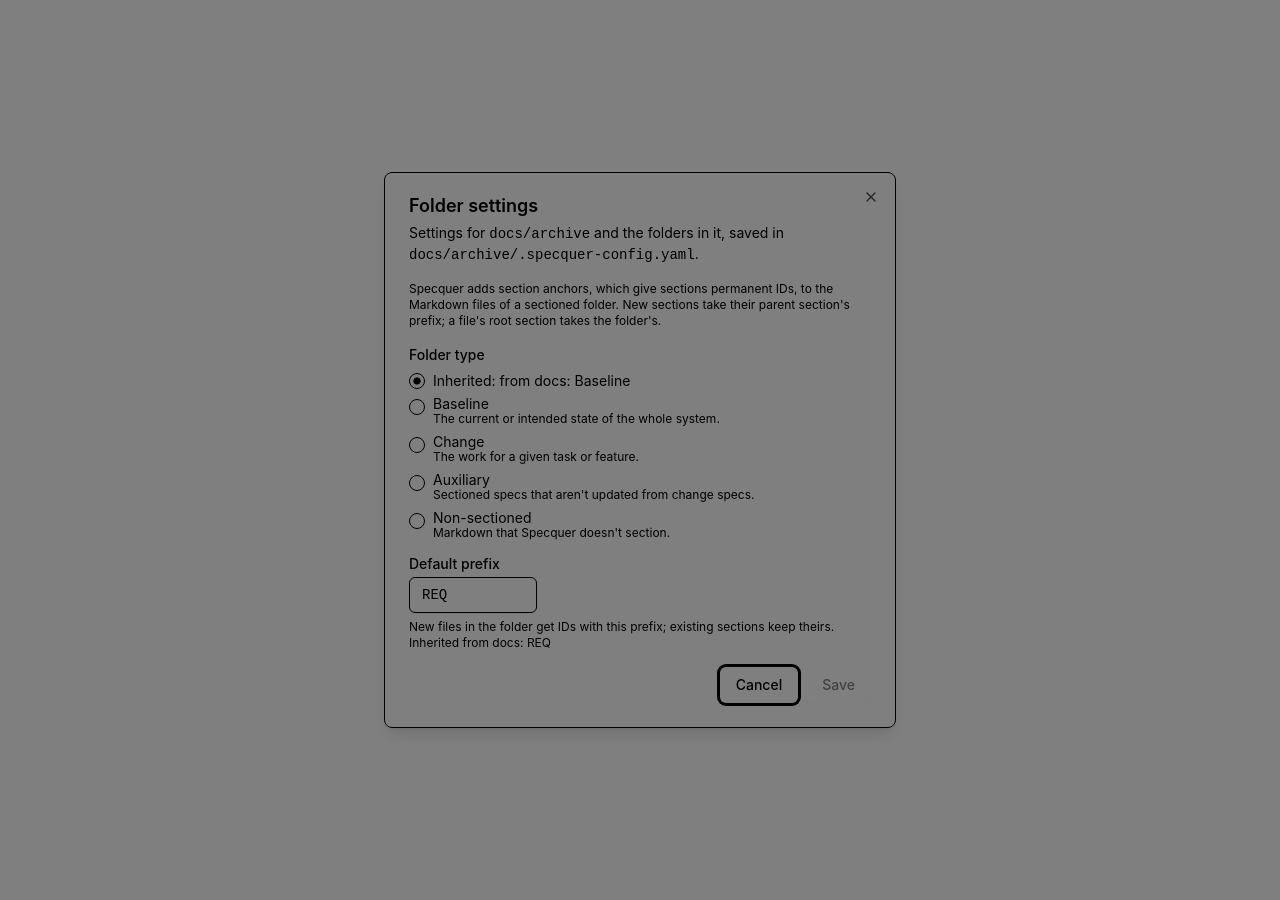
FolderSettingsDialog › a conflict reloads the settings and says so
Click the radio button named "Non-sectioned" next to "Non-sectioned" at (417, 521), box [409,513,425,529]
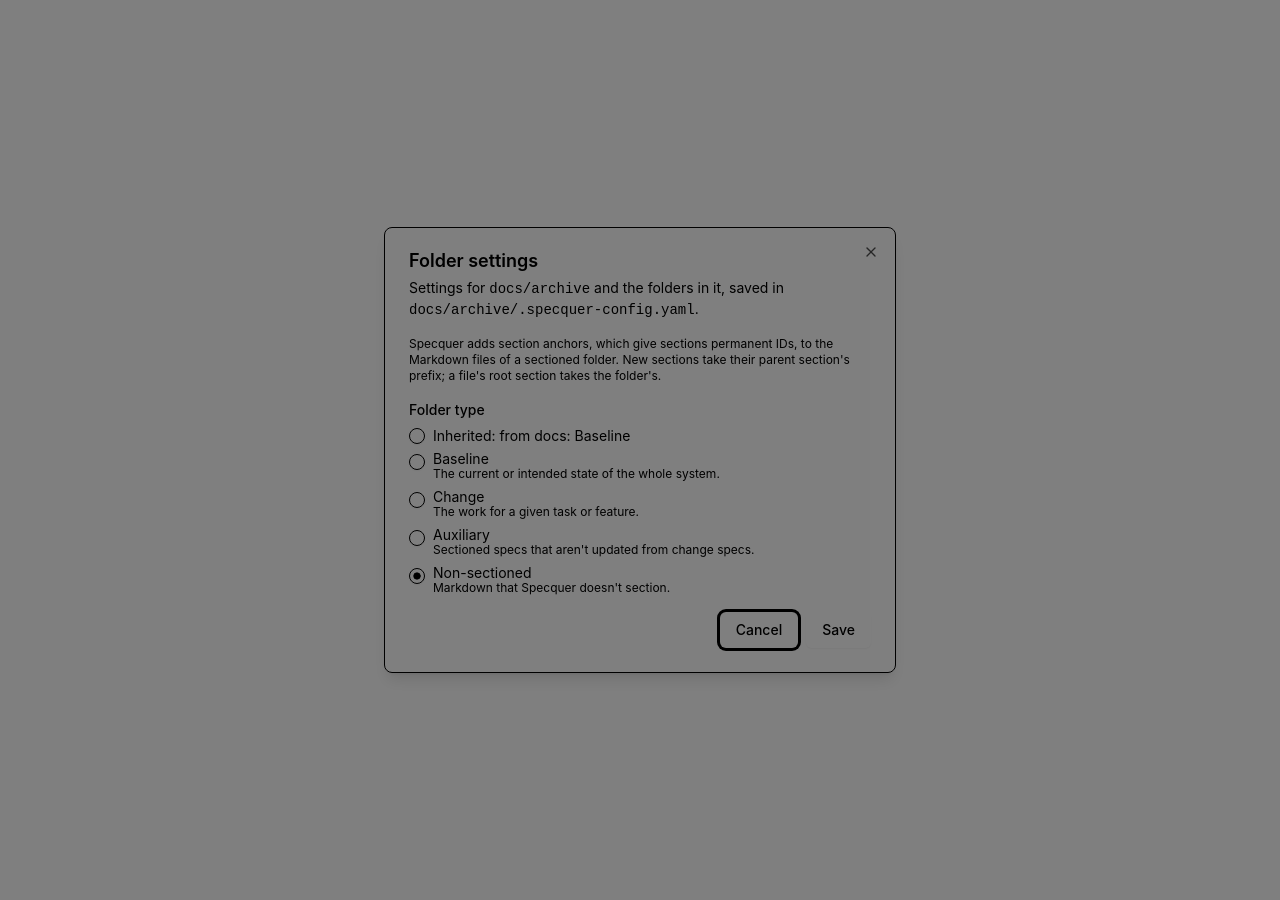
Click the button "Save" at (839, 630), box [806,612,871,648]
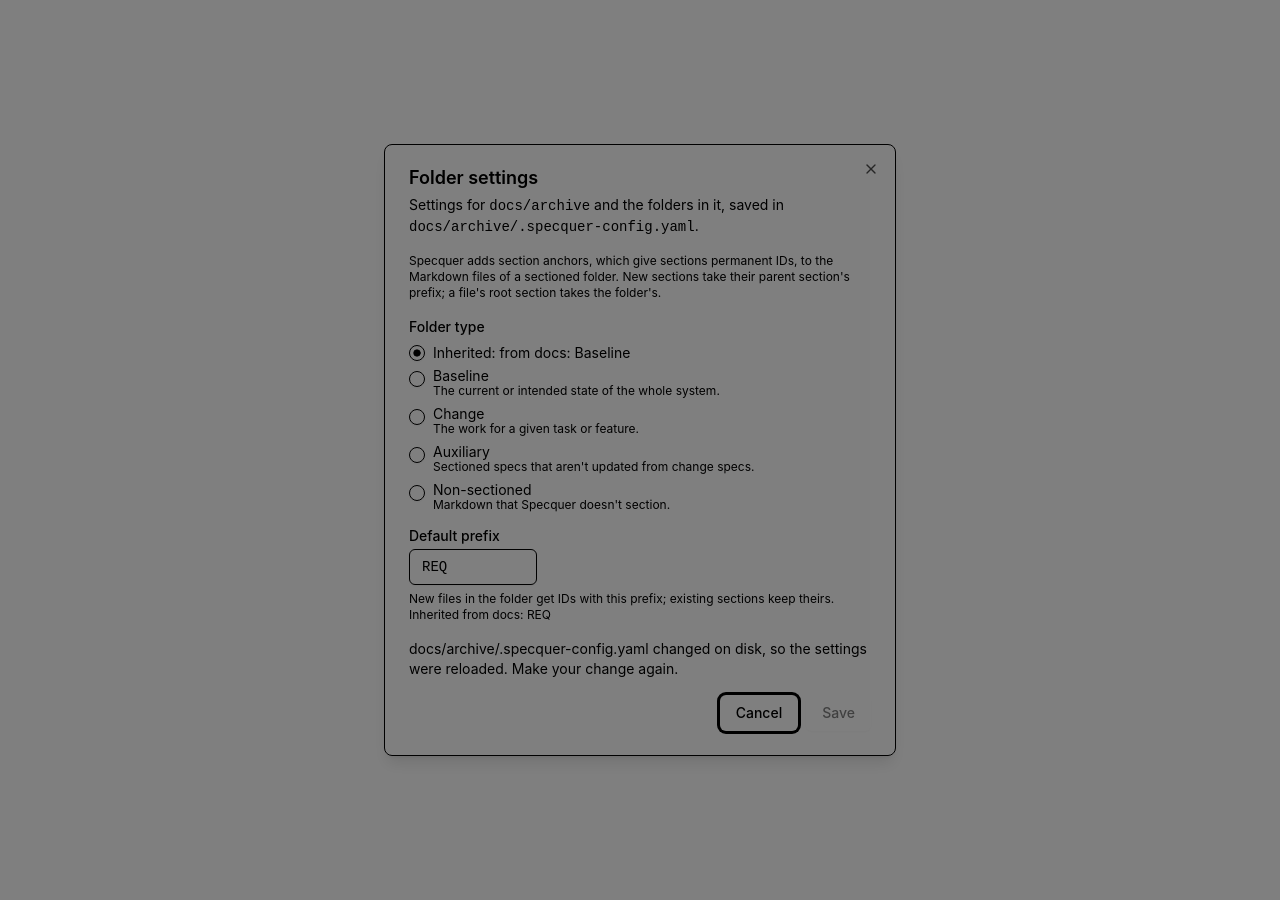
Now the message shows "changed on disk", box [409,640,867,677]
